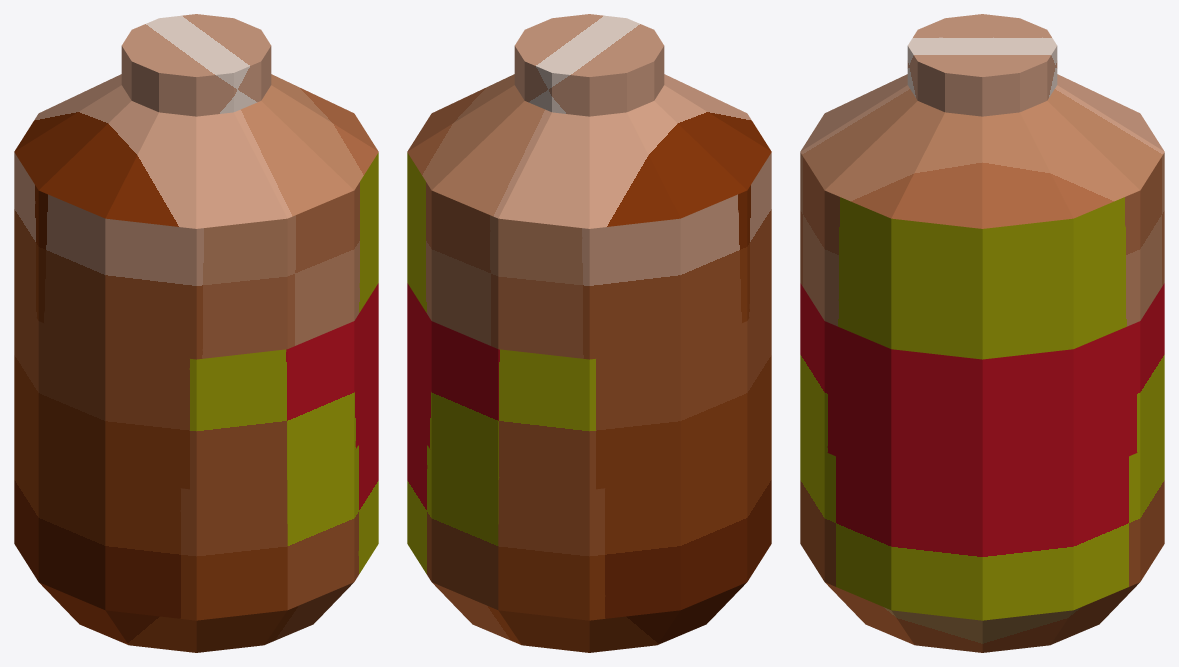
Rendered from bottle_616x03.gltf.
3 views of the same model, side by side, from view 1: azimuth 30°, elevation 25°; view 2: azimuth 150°, elevation 25°; view 3: azimuth 270°, elevation 25° (orthographic).
Visible parts, largest first — view 1: bottle_616x03; view 2: bottle_616x03; view 3: bottle_616x03.
Boxes of the visible parts, box(x1,y1,x2,y2) form: bottle_616x03: box(14, 14, 378, 652); bottle_616x03: box(407, 14, 771, 652); bottle_616x03: box(800, 14, 1164, 652).
Size of the model in its own units: 0.6 by 0.999 by 0.6.
1 material, 1 textured.
